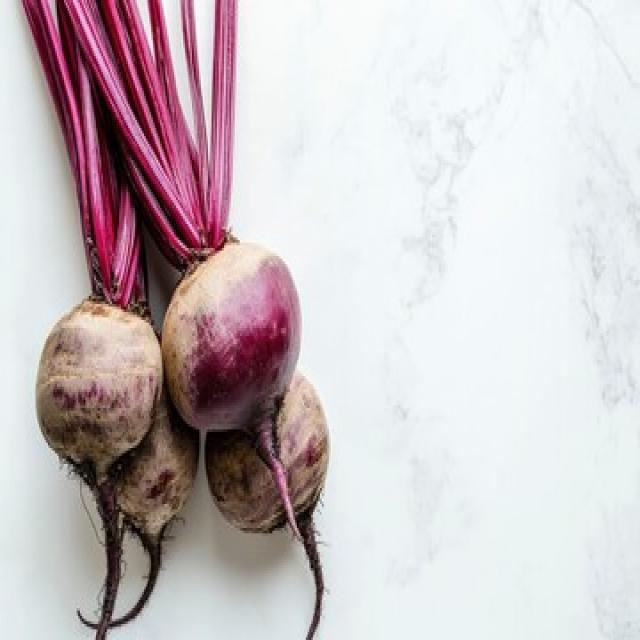Beetroot: (7, 0, 332, 637), (54, 0, 238, 267), (7, 0, 147, 309)
